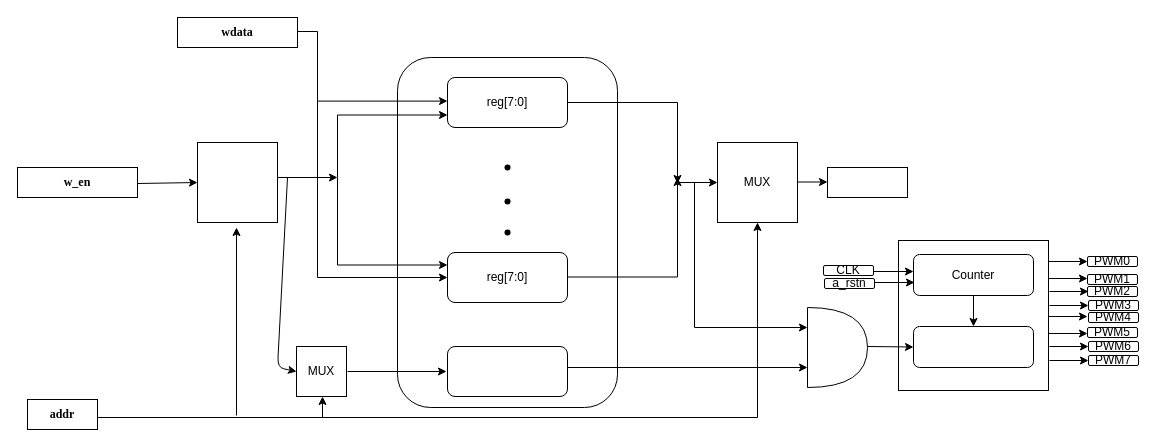
The diagram is 1156 pixels wide and 447 high, and some of its shapes have lost their labels. Here are the shapes that lost their labels. From the top down, the box of each, then its label:
(196, 142, 278, 222): DEMUX
(826, 166, 908, 198): rdata
(912, 326, 1034, 368): Comparator
(446, 346, 568, 396): en_reg[7:0]
